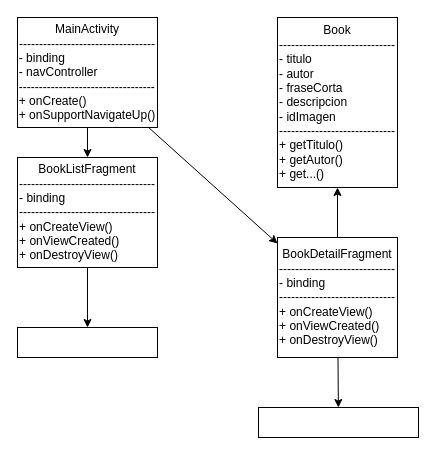
This 436x455 diagram has some shape labels left out. The centre of each missing label's shape, as x and y in pixels:
"BookCardViewHolder" belongs at point 87,342.
"FragmentBookDetailBinding" belongs at point 338,422.
